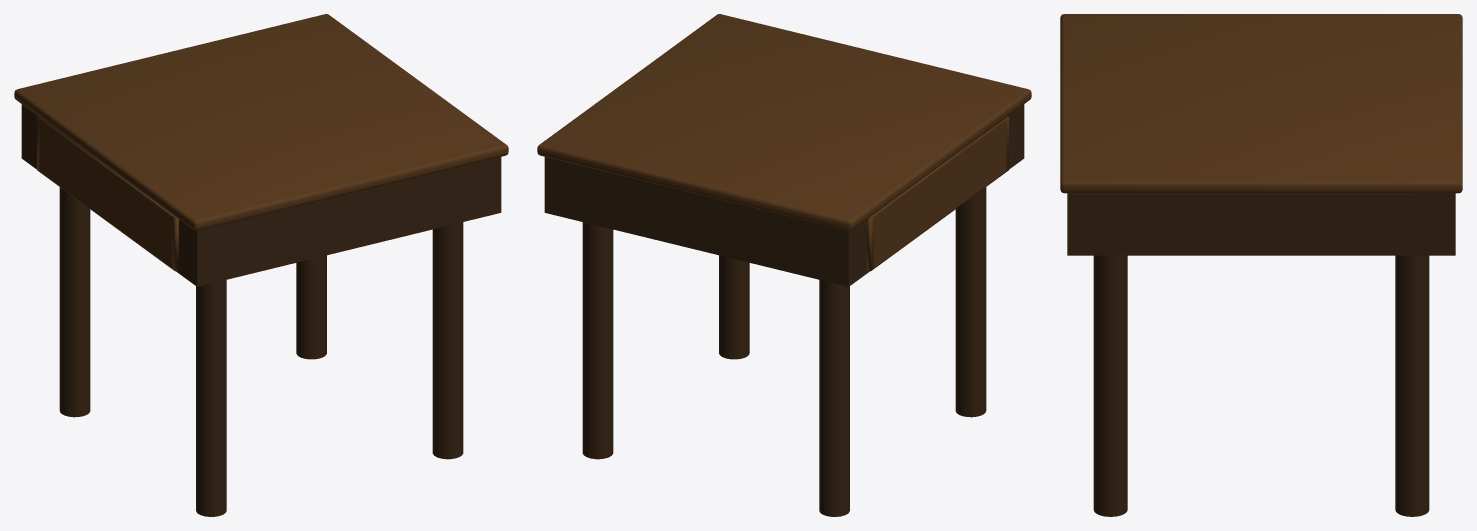
File: Desk.glb
3 views of the same model, side by side, from view 1: azimuth 30°, elevation 25°; view 2: azimuth 150°, elevation 25°; view 3: azimuth 270°, elevation 25° (orthographic). The views are drawn at different scales.
Visible parts, largest first — view 1: desk_top, desk, desk_drawer; view 2: desk_top, desk, desk_drawer; view 3: desk_top, desk.
Part boxes in pixels (box(x1,y1,x2,y2)): desk_top: box(14, 14, 508, 230); desk: box(21, 104, 501, 516); desk_drawer: box(37, 116, 178, 271); desk_top: box(537, 14, 1031, 230); desk: box(544, 104, 1024, 516); desk_drawer: box(867, 116, 1008, 271); desk_top: box(1060, 14, 1462, 193); desk: box(1067, 193, 1455, 516).
Size of the model in its own units: 12.36 by 11.8 by 12.36.
